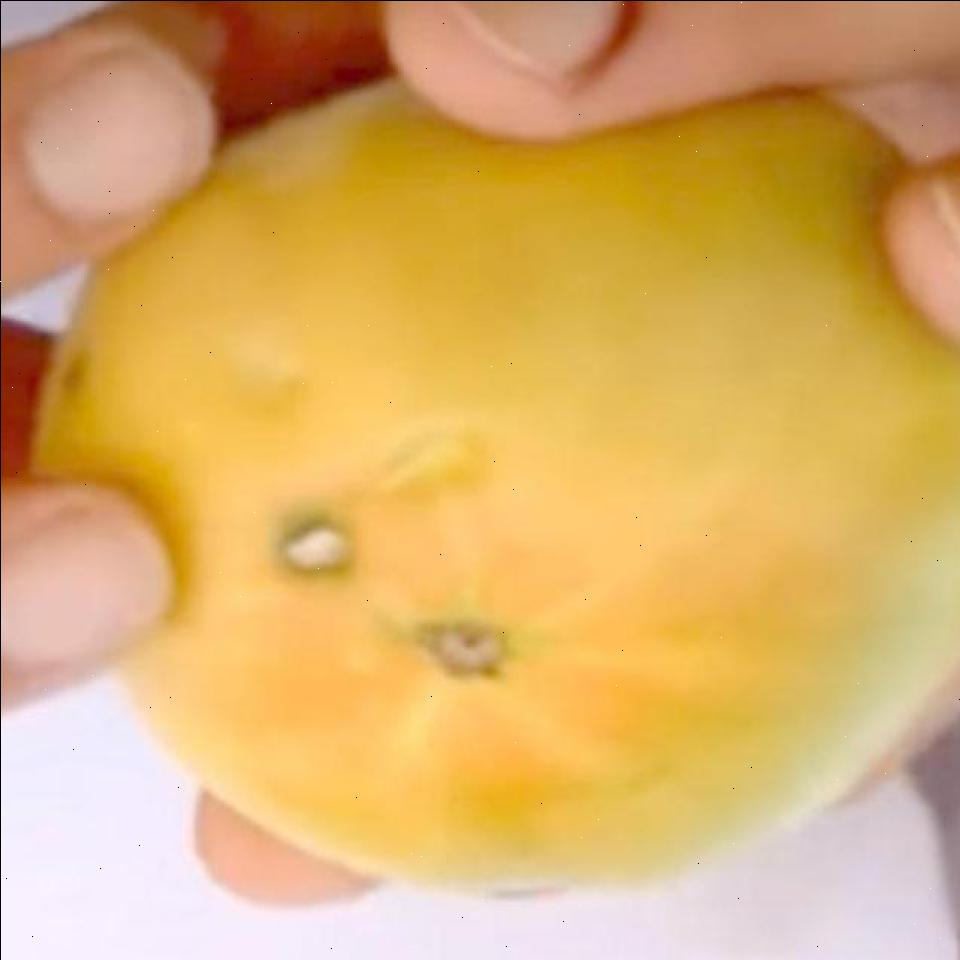Blossom_end_rot: (221, 488, 419, 612), (56, 351, 103, 404)
